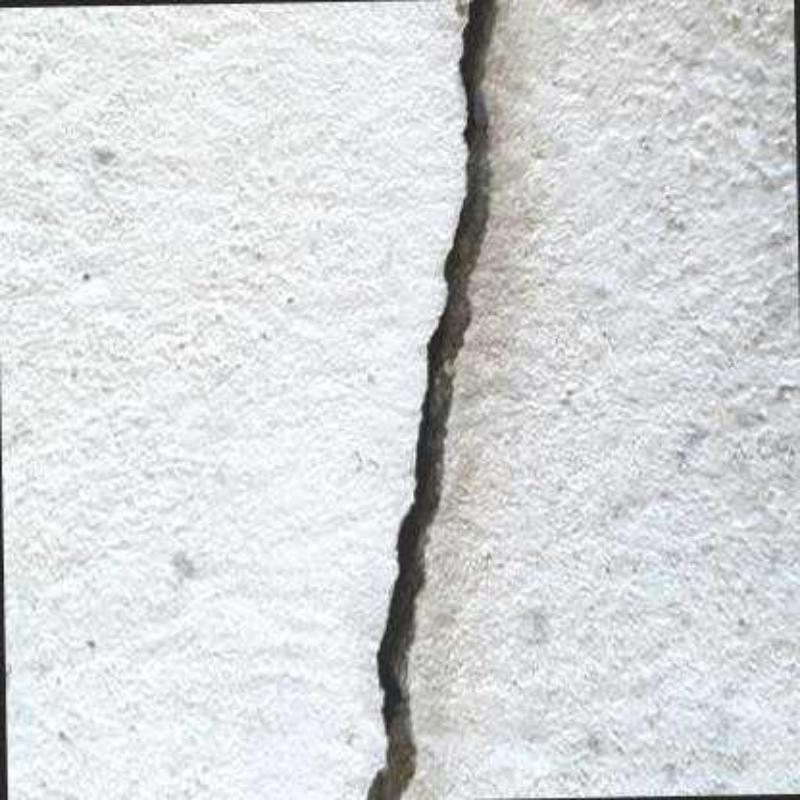pothole: (367, 1, 501, 799)
